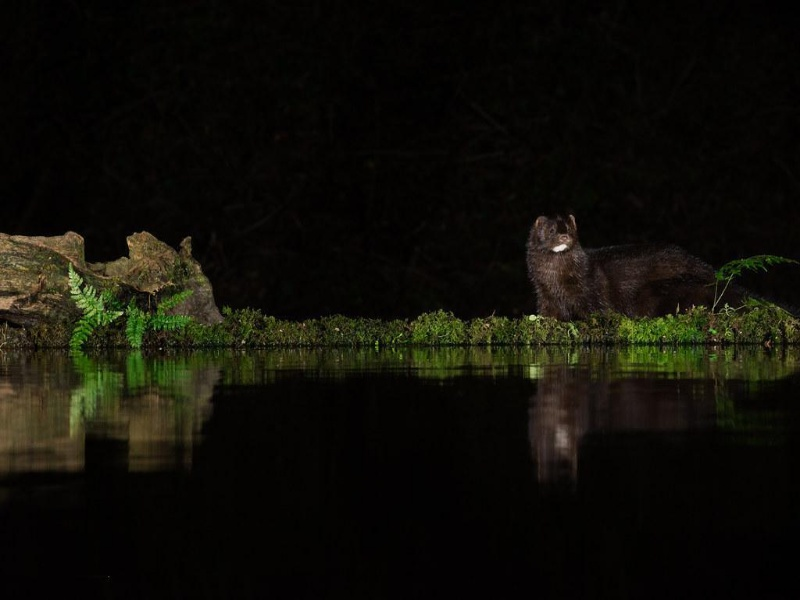minkish: (522, 208, 618, 323)
